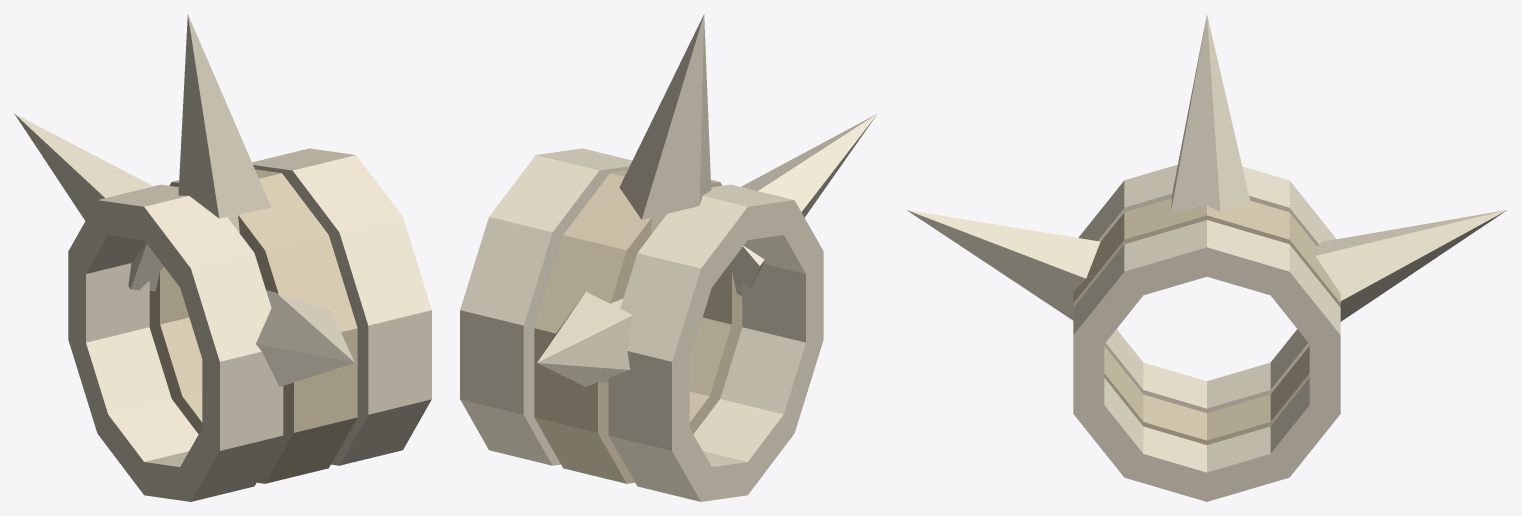
Rendered from bone_bracer_r.glb.
The picture shows the model from 3 angles, left to right: view 1: azimuth 30°, elevation 25°; view 2: azimuth 150°, elevation 25°; view 3: azimuth 270°, elevation 25°; orthographic projection. The views are drawn at different scales.
Visible parts, largest first — view 1: bone_bracer_r; view 2: bone_bracer_r; view 3: bone_bracer_r.
Part boxes in pixels (bbox=[...]): bone_bracer_r: bbox=[14, 14, 431, 501]; bone_bracer_r: bbox=[460, 14, 877, 501]; bone_bracer_r: bbox=[907, 15, 1506, 501].
Size of the model in its own units: 0.2 by 0.4242 by 0.557.
